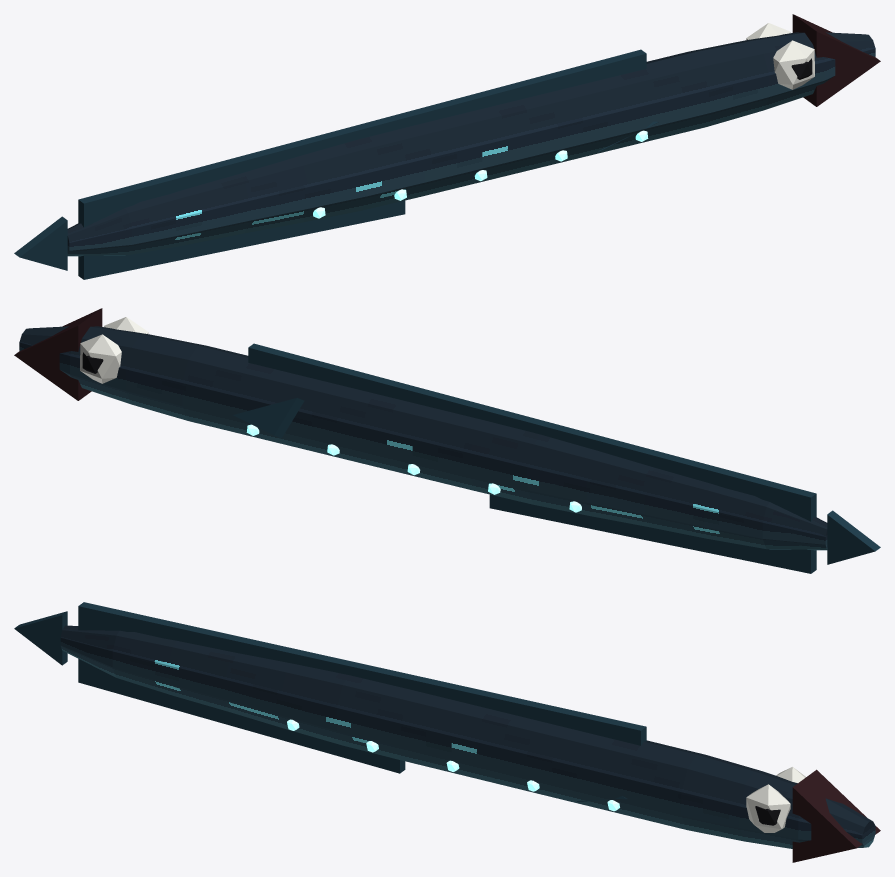
The model's file is viperfish.glb.
3 views of the same model, one above another, from view 1: azimuth 30°, elevation 25°; view 2: azimuth 150°, elevation 25°; view 3: azimuth 330°, elevation 25° (orthographic).
Parts seen in each view (by area): view 1: fish_viperfish; view 2: fish_viperfish; view 3: fish_viperfish.
Part boxes in pixels (bbox=[...]): fish_viperfish: bbox=[14, 14, 880, 279]; fish_viperfish: bbox=[14, 308, 880, 573]; fish_viperfish: bbox=[14, 602, 880, 862].
Size of the model in its own units: 1.06 by 0.121 by 0.1069.
6 materials, 1 textured.
